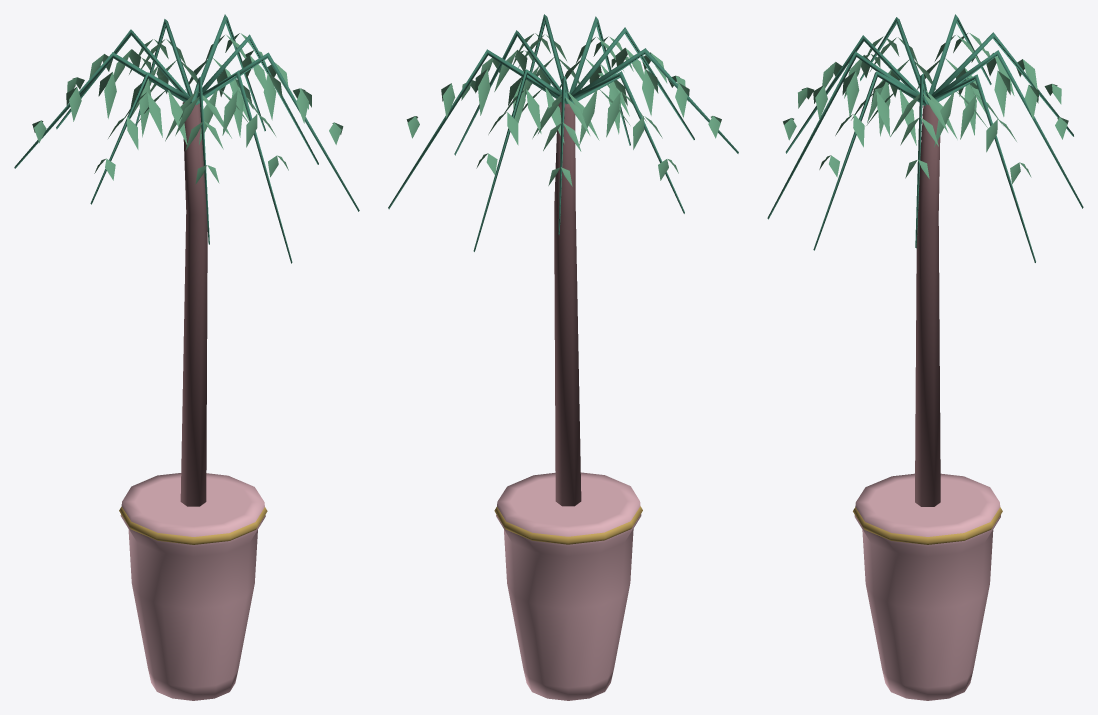
File: potted_palm.glb
3 renders of one model, left to right at view 1: azimuth 30°, elevation 25°; view 2: azimuth 150°, elevation 25°; view 3: azimuth 270°, elevation 25°, orthographic.
Visible parts, largest first — view 1: potted_palm; view 2: potted_palm; view 3: potted_palm.
Boxes of the visible parts, bbox=[...] form: potted_palm: bbox=[14, 14, 359, 700]; potted_palm: bbox=[388, 14, 738, 700]; potted_palm: bbox=[767, 14, 1083, 700].
Size of what is drawn, in the model's own units: 0.9 by 2 by 0.9.
